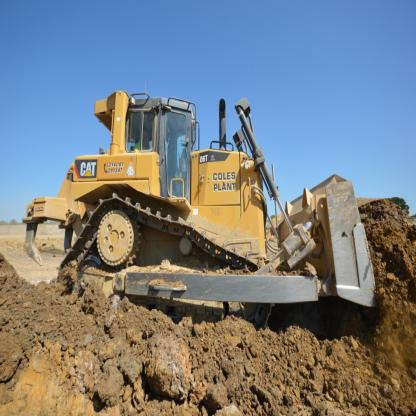bull_dozer/loader/grader: (15, 74, 376, 348)
